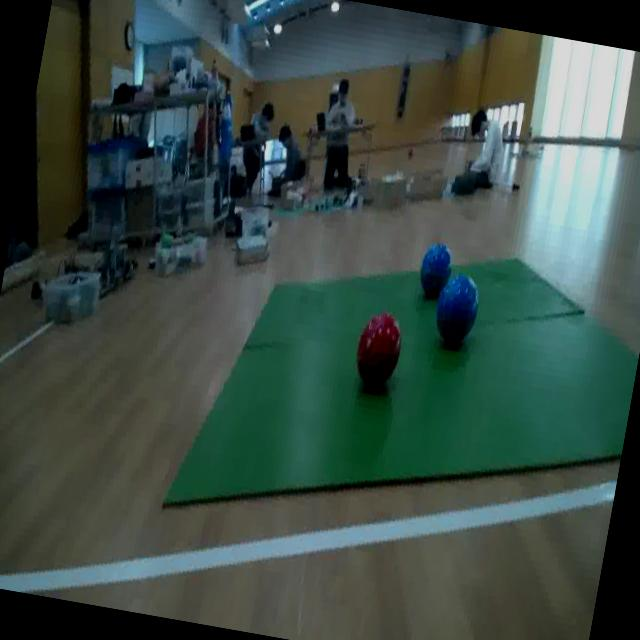blue_ball: (429, 268, 485, 354), (415, 235, 457, 302)
red_ball: (347, 305, 408, 399)
